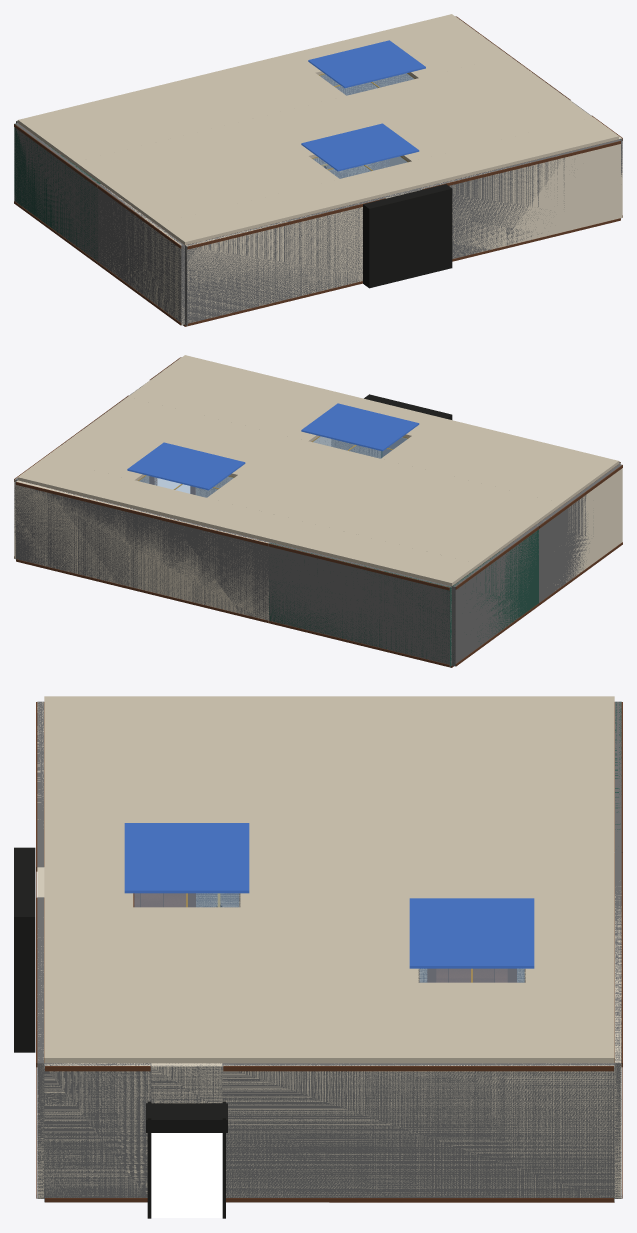
The model's file is S0_shell.glb.
3 renders of one model, top to bottom at view 1: azimuth 30°, elevation 25°; view 2: azimuth 150°, elevation 25°; view 3: azimuth 270°, elevation 25°, orthographic. The views are drawn at different scales.
Visible parts, largest first — view 1: ceil_02, COL_wall_south_L, ceil_01, wall_south_L, wall_south_R, ceil_03, ceil_06, door_entrance_void, COL_wall_west_S, COL_wall_south_R, COL_wall_west_N, ceil_04 (+12 smaller); view 2: ceil_02, COL_wall_north_R, wall_north_R, COL_wall_north_L, ceil_03, ceil_01, ceil_06, ceil_04, COL_wall_west_N, ceil_05, COL_wall_west_S, wall_west_S (+10 smaller); view 3: ceil_02, COL_wall_east_N, ceil_03, ceil_01, wall_east_N, ceil_06, ceil_05, ceil_04, COL_wall_east_S, EMIT_skylightSky_2, EMIT_skylightSky_1, ceil_07 (+17 smaller).
Boxes of the visible parts, bbox=[...] form: ceil_02: bbox=[75, 56, 560, 202]; COL_wall_south_L: bbox=[185, 197, 385, 325]; ceil_01: bbox=[159, 117, 618, 244]; wall_south_L: bbox=[185, 199, 378, 325]; wall_south_R: bbox=[421, 144, 620, 258]; ceil_03: bbox=[18, 14, 477, 141]; ceil_06: bbox=[44, 73, 346, 164]; door_entrance_void: bbox=[363, 184, 452, 288]; COL_wall_west_S: bbox=[98, 184, 184, 325]; COL_wall_south_R: bbox=[420, 139, 620, 258]; COL_wall_west_N: bbox=[14, 123, 100, 261]; ceil_04: bbox=[127, 156, 339, 225]; ceil_02: bbox=[76, 397, 561, 543]; COL_wall_north_R: bbox=[16, 482, 270, 620]; wall_north_R: bbox=[16, 480, 268, 622]; COL_wall_north_L: bbox=[269, 542, 451, 666]; ceil_03: bbox=[18, 458, 477, 585]; ceil_01: bbox=[159, 355, 618, 482]; ceil_06: bbox=[207, 475, 509, 566]; ceil_04: bbox=[381, 436, 592, 505]; COL_wall_west_N: bbox=[452, 525, 538, 666]; ceil_05: bbox=[128, 374, 322, 441]; COL_wall_west_S: bbox=[536, 464, 622, 602]; wall_west_S: bbox=[555, 468, 622, 590]; ceil_02: bbox=[240, 696, 418, 1063]; COL_wall_east_N: bbox=[222, 1063, 614, 1201]; ceil_03: bbox=[525, 696, 614, 1063]; ceil_01: bbox=[44, 696, 133, 1063]; wall_east_N: bbox=[222, 1063, 614, 1200]; ceil_06: bbox=[418, 696, 525, 898]; ceil_05: bbox=[133, 907, 240, 1063]; ceil_04: bbox=[133, 696, 240, 822]; COL_wall_east_S: bbox=[44, 1063, 151, 1201]; EMIT_skylightSky_2: bbox=[409, 898, 534, 968]; EMIT_skylightSky_1: bbox=[124, 823, 249, 893]; ceil_07: bbox=[418, 982, 525, 1063].
Size of the model in its own units: 25.53 by 5.11 by 17.08.
Materials: 19 (3 with a texture image).
